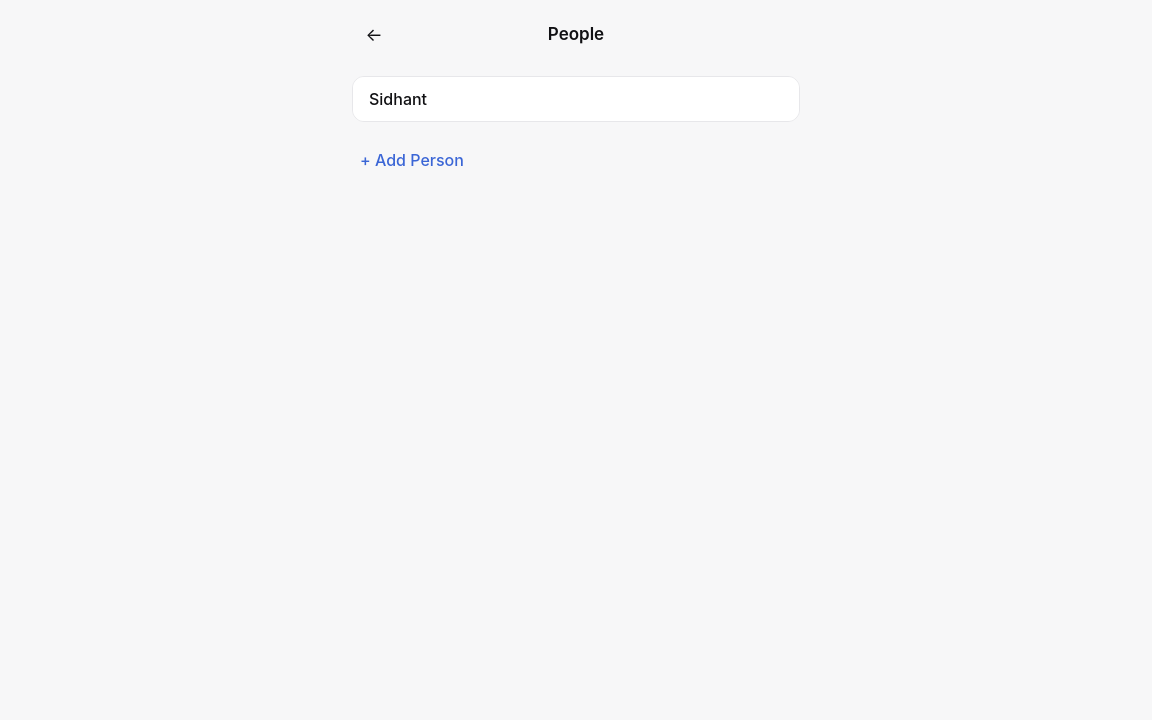
Test case: PeopleScreen › adds a person without requiring a password
Click the button "+ Add Person": (412, 160) [352, 138, 472, 182]
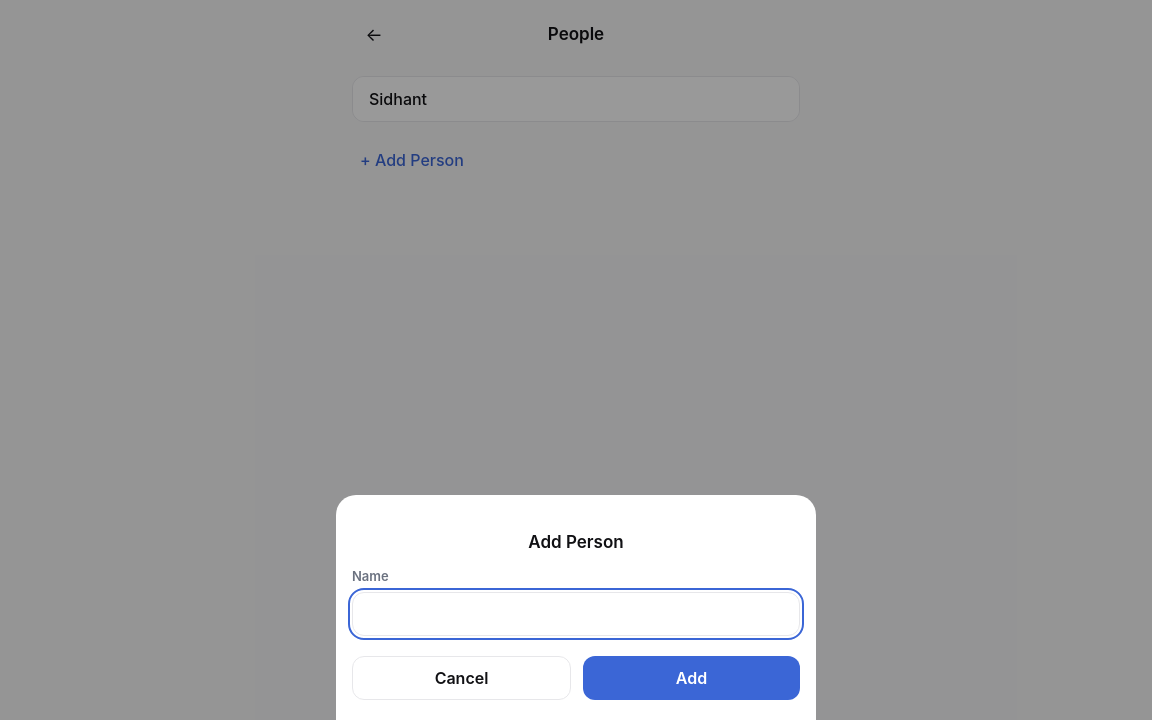
In the field labelled "Name": (576, 614) [352, 592, 800, 636], type "Rahul"
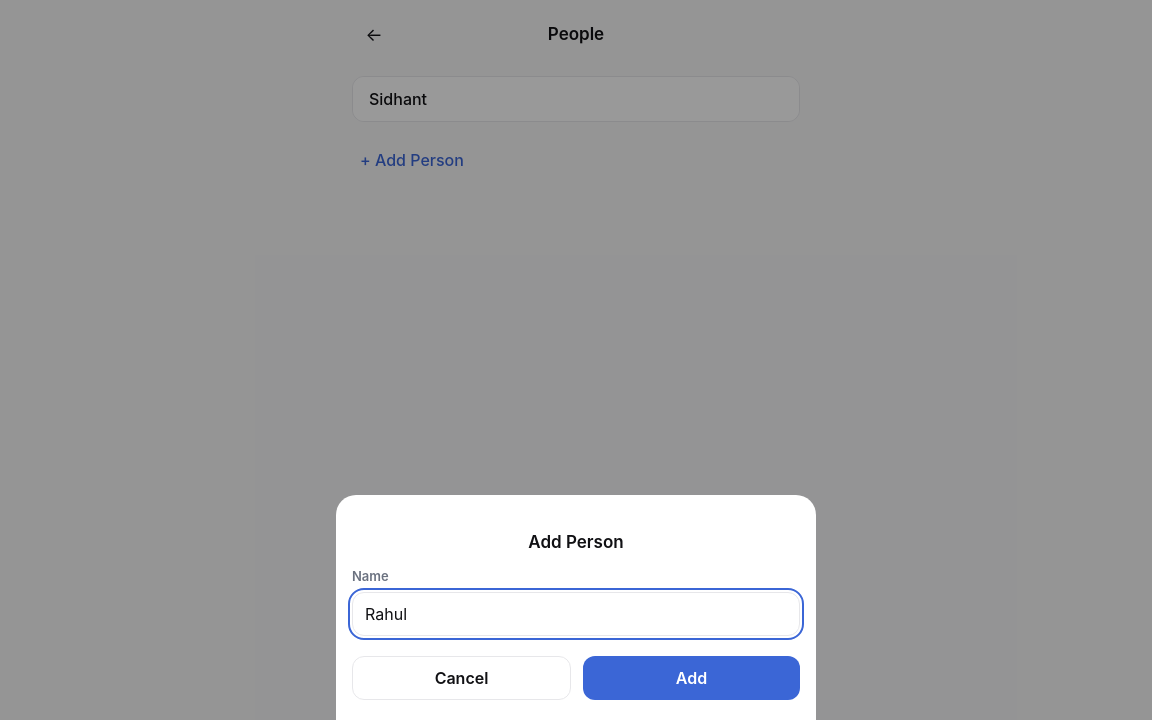
Click the button "Add": (692, 678) [583, 656, 800, 700]
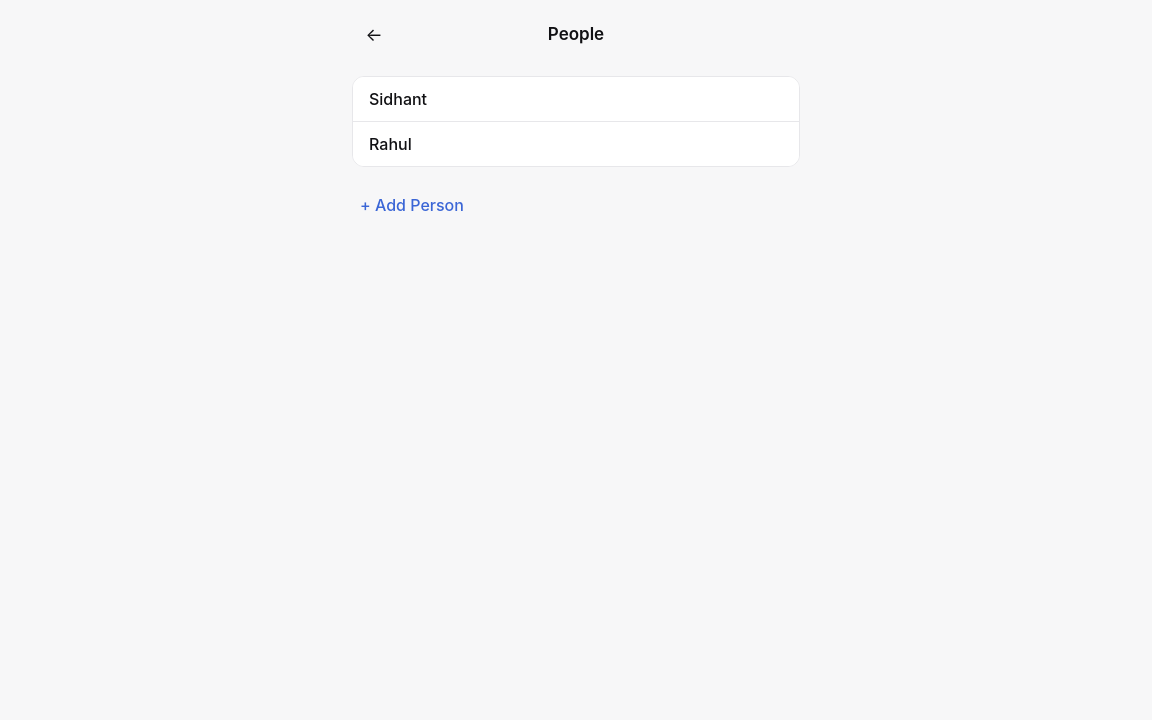
Expected: the text "Rahul" is shown, [369, 134, 412, 154]
